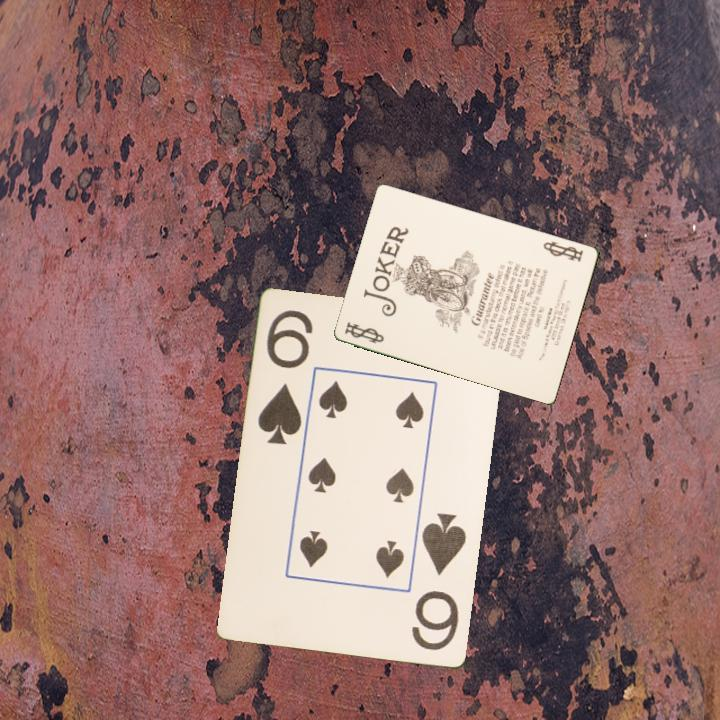6s: (254, 306, 317, 449), (408, 510, 470, 654)
JK: (342, 318, 387, 346), (540, 237, 586, 264)
